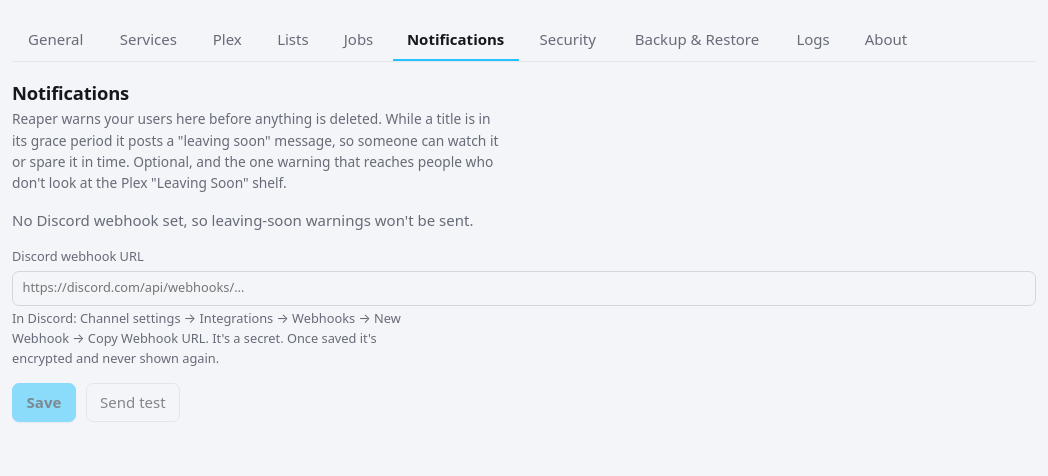
Test: leaving Plex or Notifications with something unsaved › switches straight through when the webhook box is empty
expect the password field labelled "Discord webhook URL" is shown: met, box [12, 271, 1036, 306]
Click the button "Security". click: {"x": 568, "y": 41}
box: [523, 20, 613, 61]
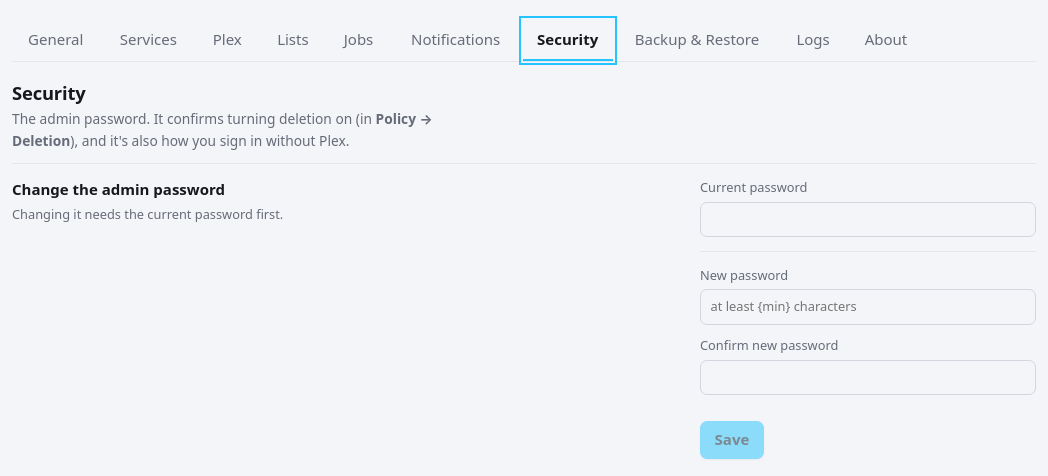
expect the heading "Security" is shown: met, box [12, 80, 86, 105]
